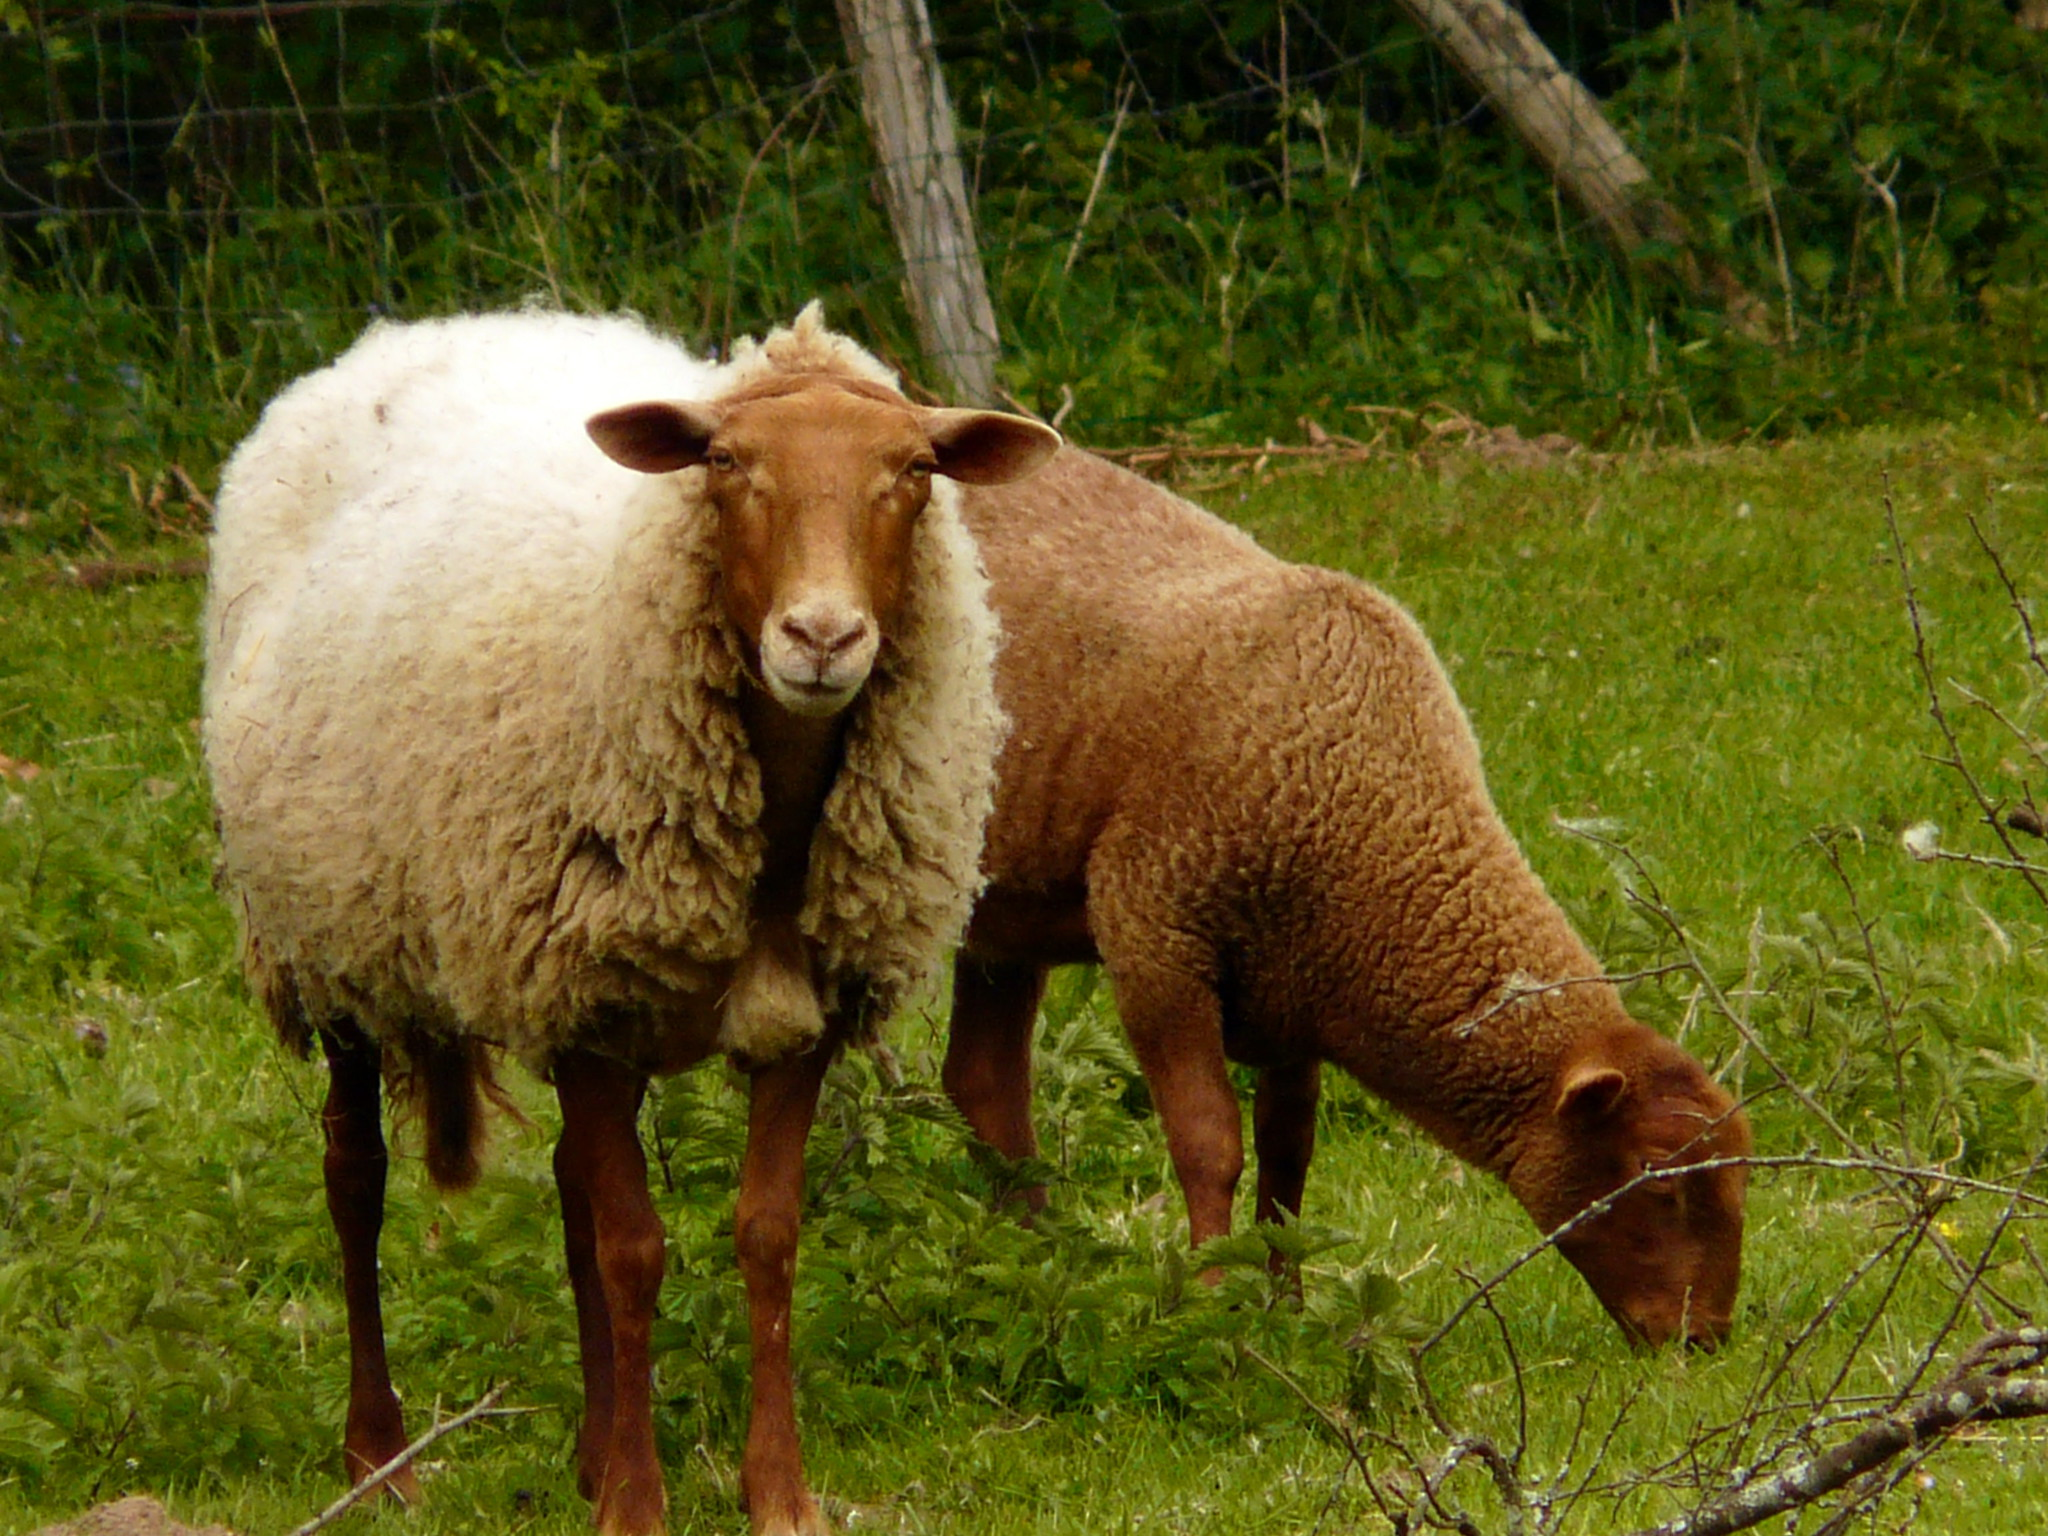sheep: (182, 294, 1009, 1533), (968, 394, 1751, 1386)
